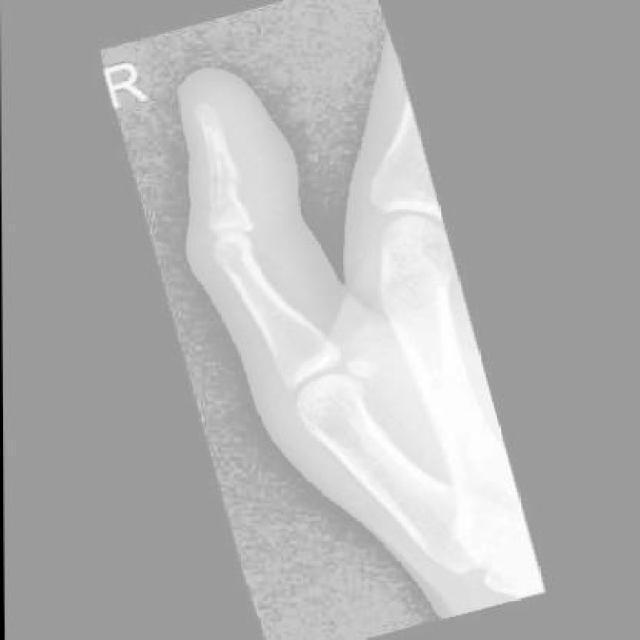Fracture: (203, 162, 247, 211)
